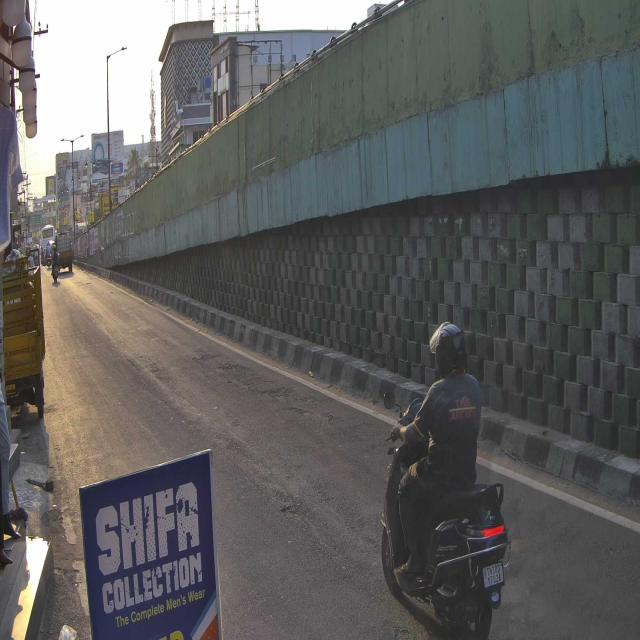single_rider: (381, 316, 516, 640)
